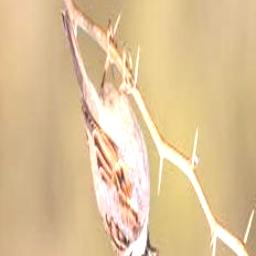Sparrow: (61, 6, 159, 256)
